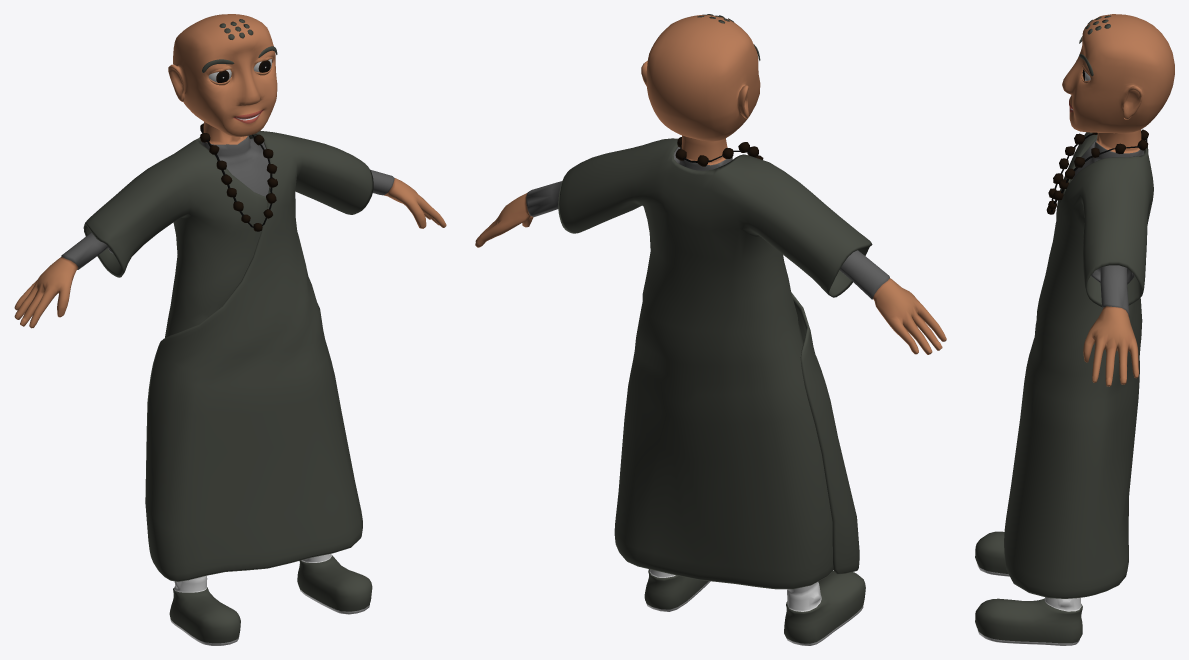
The model's file is john-monk.glb.
3 views of the same model, side by side, from view 1: azimuth 30°, elevation 25°; view 2: azimuth 150°, elevation 25°; view 3: azimuth 270°, elevation 25° (orthographic). The views are drawn at different scales.
Parts seen in each view (by area): view 1: mesh_id33, mesh_id31, mesh_id32, mesh_id40, mesh_id30; view 2: mesh_id33, mesh_id31, mesh_id32, mesh_id30; view 3: mesh_id33, mesh_id31, mesh_id32, mesh_id40, mesh_id30.
Boxes of the visible parts, x1,y1,x2,y2 form: mesh_id33: (83, 19, 373, 643); mesh_id31: (14, 14, 446, 328); mesh_id32: (61, 135, 394, 269); mesh_id40: (200, 60, 277, 231); mesh_id30: (170, 66, 369, 645); mesh_id33: (558, 14, 872, 643); mesh_id31: (475, 15, 946, 354); mesh_id32: (526, 147, 889, 299); mesh_id30: (646, 569, 863, 645); mesh_id33: (975, 15, 1153, 643); mesh_id31: (1062, 14, 1174, 386); mesh_id32: (1073, 139, 1144, 316); mesh_id40: (1046, 70, 1148, 214); mesh_id30: (977, 73, 1082, 645).
Size of the model in its own units: 0.3484 by 0.4492 by 0.1384.
10 materials, 10 textured.
